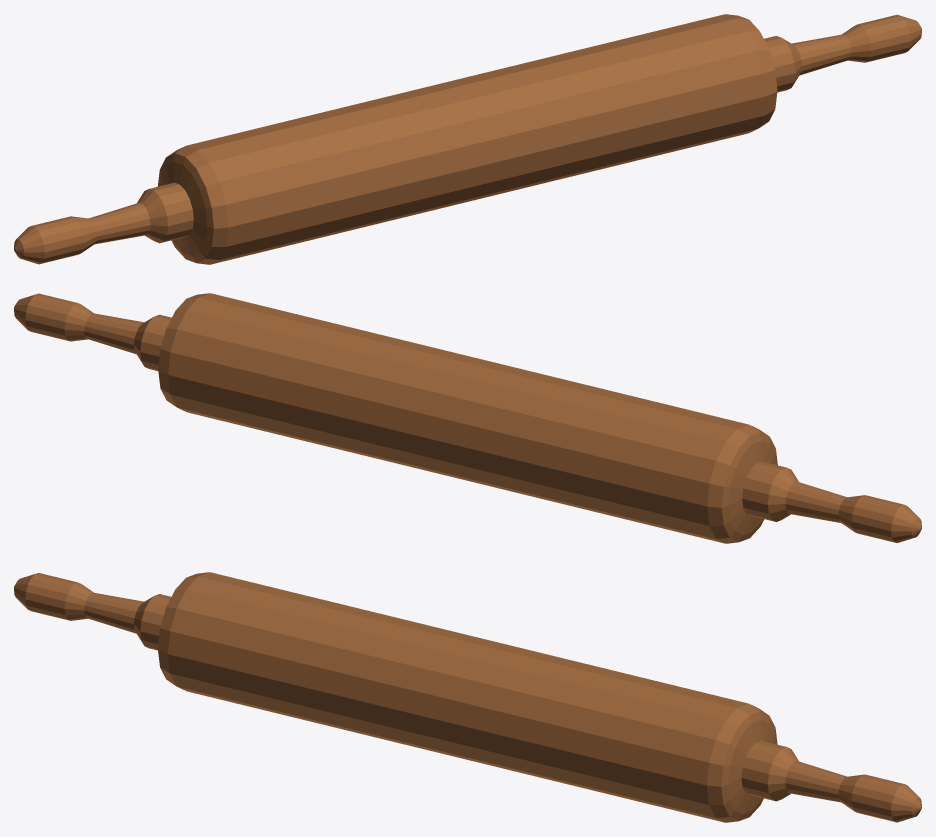
Rendered from roller.glb.
3 views of the same model, one above another, from view 1: azimuth 30°, elevation 25°; view 2: azimuth 150°, elevation 25°; view 3: azimuth 330°, elevation 25° (orthographic).
Parts seen in each view (by area): view 1: Roller; view 2: Roller; view 3: Roller.
Boxes of the visible parts, bbox=[...] form: Roller: bbox=[14, 14, 921, 264]; Roller: bbox=[14, 293, 921, 543]; Roller: bbox=[14, 572, 921, 822].
Size of the model in its own units: 0.8746 by 0.1019 by 0.1019.
